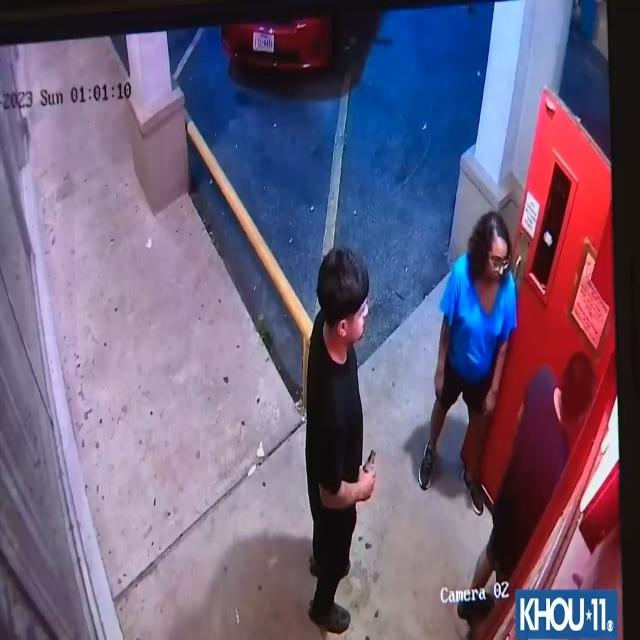Person: (465, 340, 589, 617), (299, 244, 376, 632), (424, 214, 519, 501)
